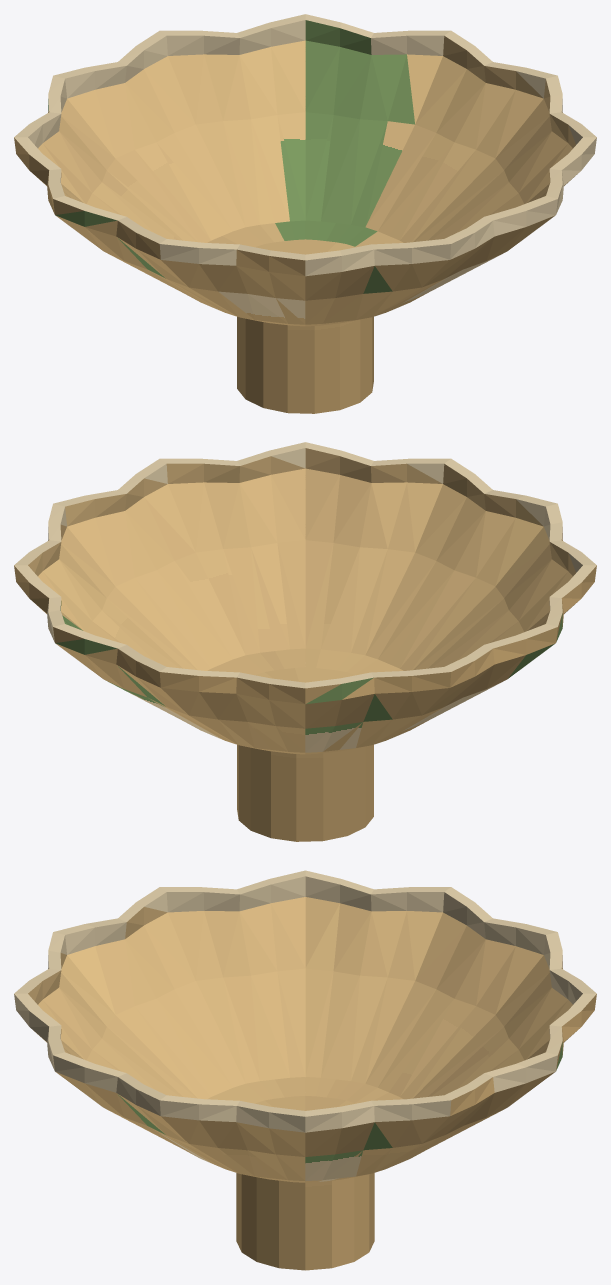
Rendered from vessel-kyoto.glb.
The picture shows the model from 3 angles, top to bottom: view 1: azimuth 30°, elevation 25°; view 2: azimuth 150°, elevation 25°; view 3: azimuth 270°, elevation 25°; orthographic projection.
Parts seen in each view (by area): view 1: vessel-kyoto/complete-inner-outer-shell-with-drainage, vessel-kyoto/complete-open-foot-ring; view 2: vessel-kyoto/complete-inner-outer-shell-with-drainage, vessel-kyoto/complete-open-foot-ring; view 3: vessel-kyoto/complete-inner-outer-shell-with-drainage, vessel-kyoto/complete-open-foot-ring.
Part boxes in pixels (x1=…): vessel-kyoto/complete-inner-outer-shell-with-drainage: x1=14, y1=14, x2=596, y2=326; vessel-kyoto/complete-open-foot-ring: x1=237, y1=316, x2=373, y2=413; vessel-kyoto/complete-inner-outer-shell-with-drainage: x1=14, y1=442, x2=596, y2=754; vessel-kyoto/complete-open-foot-ring: x1=237, y1=744, x2=373, y2=841; vessel-kyoto/complete-inner-outer-shell-with-drainage: x1=14, y1=870, x2=596, y2=1182; vessel-kyoto/complete-open-foot-ring: x1=236, y1=1173, x2=374, y2=1270.
Bounding box in the file's own units: 0.3958 × 0.1855 × 0.3958.
1 material, 1 textured.
